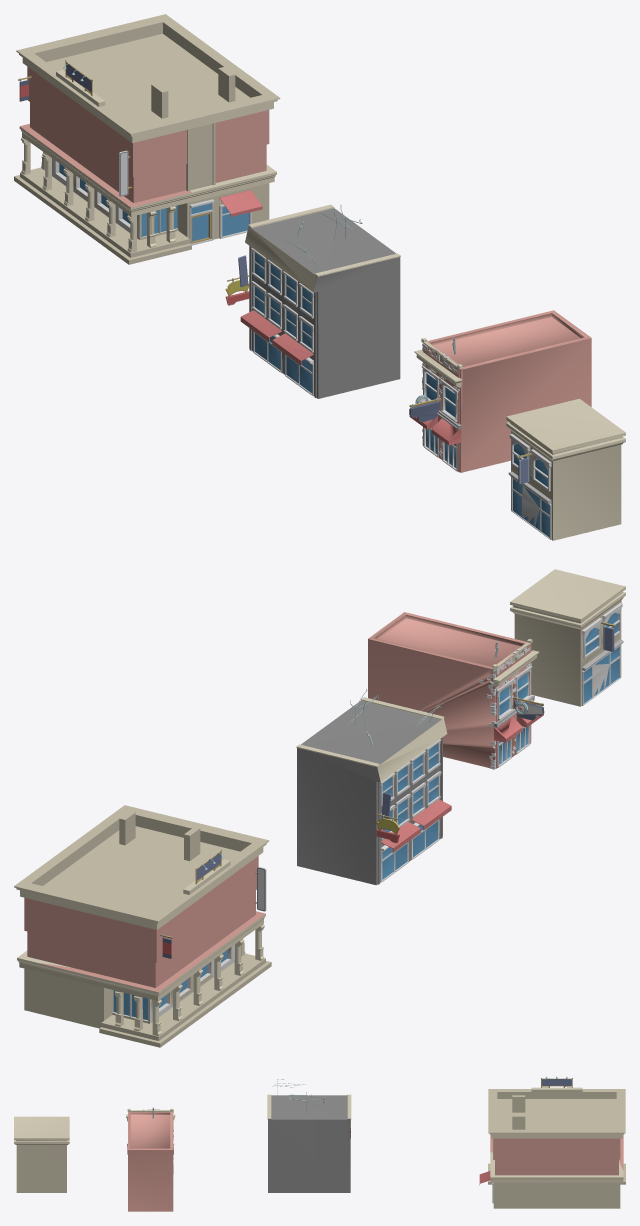
The model's file is Filler_house.fbx.
The picture shows the model from 3 angles, top to bottom: view 1: azimuth 30°, elevation 25°; view 2: azimuth 150°, elevation 25°; view 3: azimuth 270°, elevation 25°; orthographic projection. The views are drawn at different scales.
Parts seen in each view (by area): view 1: Cube.002, Cube.064, Cube.062, Cube.063; view 2: Cube.002, Cube.064, Cube.062, Cube.063; view 3: Cube.002, Cube.064, Cube.062, Cube.063.
Boxes of the visible parts, bbox=[...] form: Cube.002: bbox=[14, 14, 280, 264]; Cube.064: bbox=[240, 204, 400, 398]; Cube.062: bbox=[409, 310, 591, 472]; Cube.063: bbox=[506, 398, 625, 540]; Cube.002: bbox=[14, 805, 271, 1047]; Cube.064: bbox=[296, 697, 451, 885]; Cube.062: bbox=[368, 612, 544, 769]; Cube.063: bbox=[510, 569, 625, 706]; Cube.002: bbox=[479, 1076, 625, 1208]; Cube.064: bbox=[267, 1094, 351, 1192]; Cube.062: bbox=[126, 1107, 175, 1211]; Cube.063: bbox=[14, 1116, 69, 1192].
Size of the model in its own units: 1320 by 1072 by 6457.
